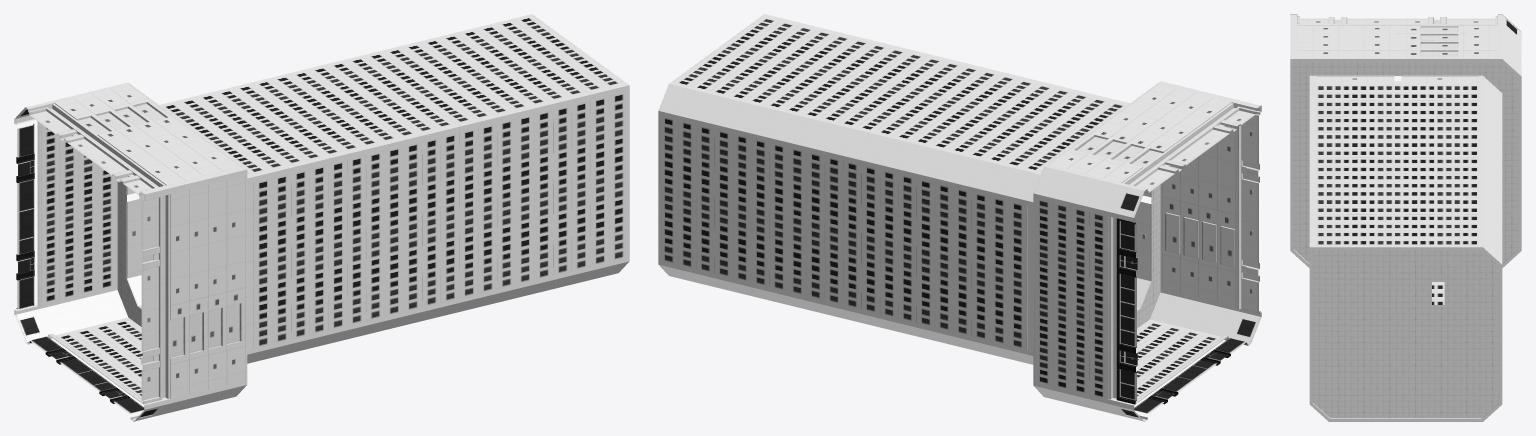
3 views of the same model, side by side, from view 1: azimuth 30°, elevation 25°; view 2: azimuth 150°, elevation 25°; view 3: azimuth 270°, elevation 25° (orthographic). The views are drawn at different scales.
Parts seen in each view (by area): view 1: S_C_03_05_F.002, S_C_03_05_F1.001, S_C_03_05_F1.002, S_C_03_05_S.001, S_C_03_05_S.003, S_C_03_05_F.001, S_C_03_05_R1.001, S_C_03_05_F.003; view 2: S_C_03_05_F.002, S_C_03_05_F1.002, S_C_03_05_F1.001, S_C_03_05_S.001, S_C_03_05_S.003, S_C_03_05_F.001, S_C_03_05_R1.001, S_C_03_05_F.003; view 3: S_C_03_05_F.002, S_C_03_05_R.001, S_C_03_05_R1.001, S_C_03_05_F1.001, S_C_03_05_F.003, S_C_03_05_S.001, S_C_03_05_F1.002, S_C_03_05_F.001, S_C_03_05_S.003.
Boxes of the visible parts, x1,y1,x2,y2 form: S_C_03_05_F.002: (127, 14, 627, 363); S_C_03_05_F1.001: (55, 82, 247, 398); S_C_03_05_F1.002: (41, 83, 245, 414); S_C_03_05_S.001: (14, 103, 170, 421); S_C_03_05_S.003: (16, 101, 170, 420); S_C_03_05_F.001: (127, 172, 253, 349); S_C_03_05_R1.001: (117, 181, 141, 324); S_C_03_05_F.003: (126, 14, 629, 308); S_C_03_05_F.002: (660, 14, 1150, 364); S_C_03_05_F1.002: (1035, 81, 1235, 414); S_C_03_05_F1.001: (1033, 81, 1234, 397); S_C_03_05_S.001: (1108, 102, 1261, 421); S_C_03_05_S.003: (1108, 99, 1260, 420); S_C_03_05_F.001: (1027, 171, 1150, 351); S_C_03_05_R1.001: (1137, 185, 1160, 326); S_C_03_05_F.003: (658, 14, 1151, 310); S_C_03_05_F.002: (1309, 76, 1502, 304); S_C_03_05_R.001: (1313, 250, 1498, 418); S_C_03_05_R1.001: (1293, 62, 1518, 263); S_C_03_05_F1.001: (1290, 25, 1521, 267); S_C_03_05_F.003: (1309, 75, 1502, 421); S_C_03_05_S.001: (1290, 14, 1521, 35); S_C_03_05_F1.002: (1290, 25, 1521, 75); S_C_03_05_F.001: (1316, 76, 1478, 83); S_C_03_05_S.003: (1290, 15, 1521, 42).
Bounding box in the file's own units: 102 × 46.18 × 46.18.
